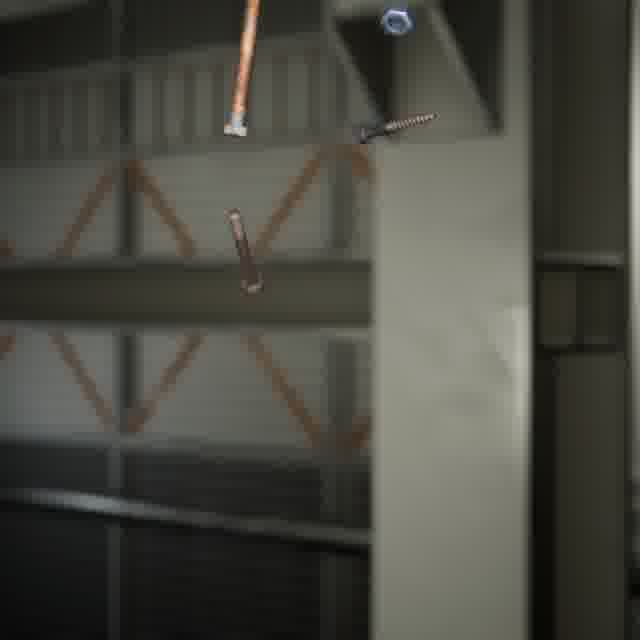bolt: (218, 0, 266, 142), (223, 204, 270, 301), (348, 108, 440, 148)
nut: (376, 0, 419, 41)
